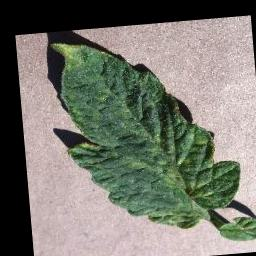Leaf_Mold: (49, 39, 90, 71)
